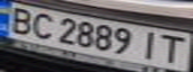2: (51, 16, 78, 47)
8: (72, 19, 96, 49), (93, 23, 115, 53)
9: (112, 25, 136, 56)
B: (3, 5, 39, 35)
C: (24, 10, 60, 40)
I: (136, 29, 163, 61)
T: (154, 33, 190, 65)
